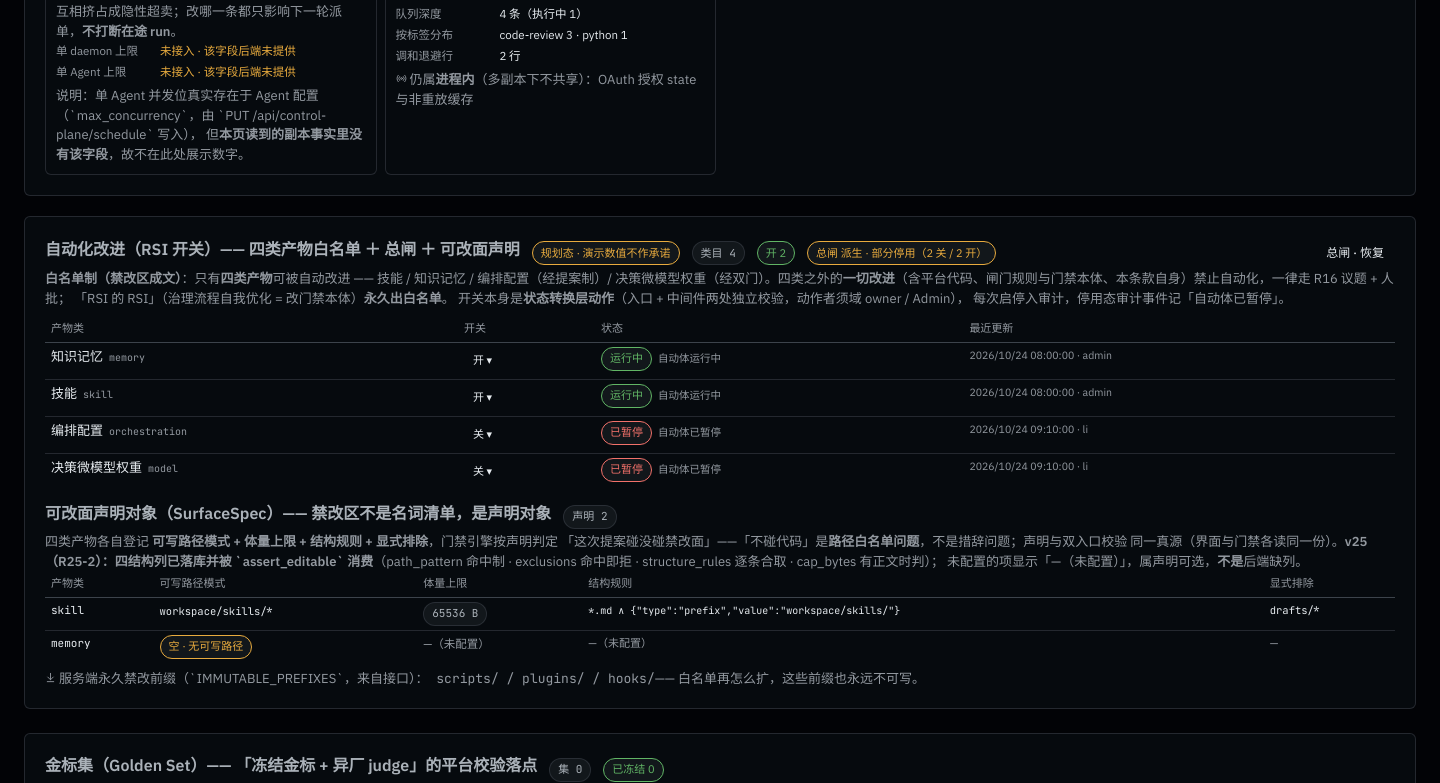
① RSI 开关卡组 › 写失败：后端 detail 原样出现在 role=alert 里（不改写成成功）
(page scrolled)
Click the button named "停用「技能」自动改进" at (483, 398), box [464,384,501,412]
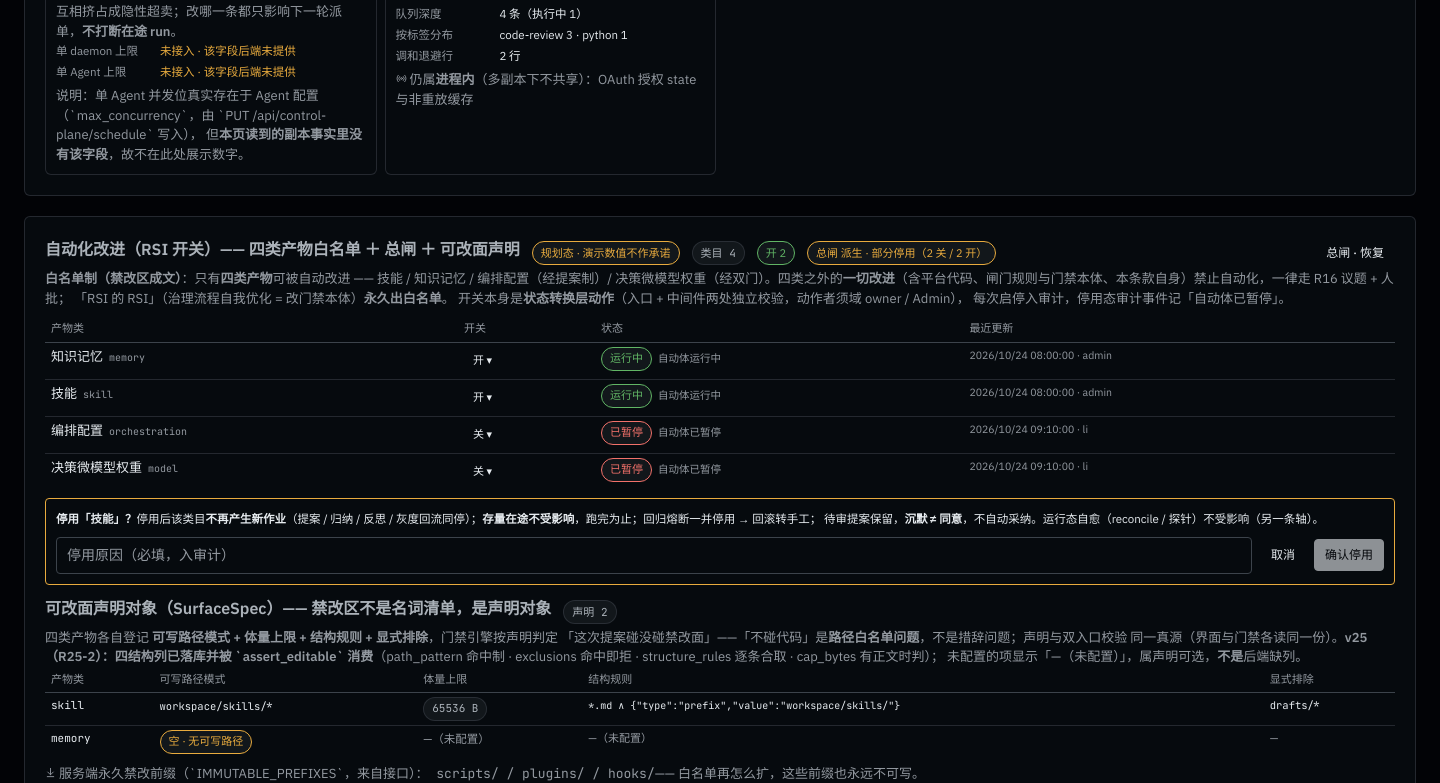
Now the button "确认停用" is disabled, box [1314,539,1384,571]
Type "权限演练" into the field named "停用原因（必填）" at (654, 555), box [56,536,1252,574]
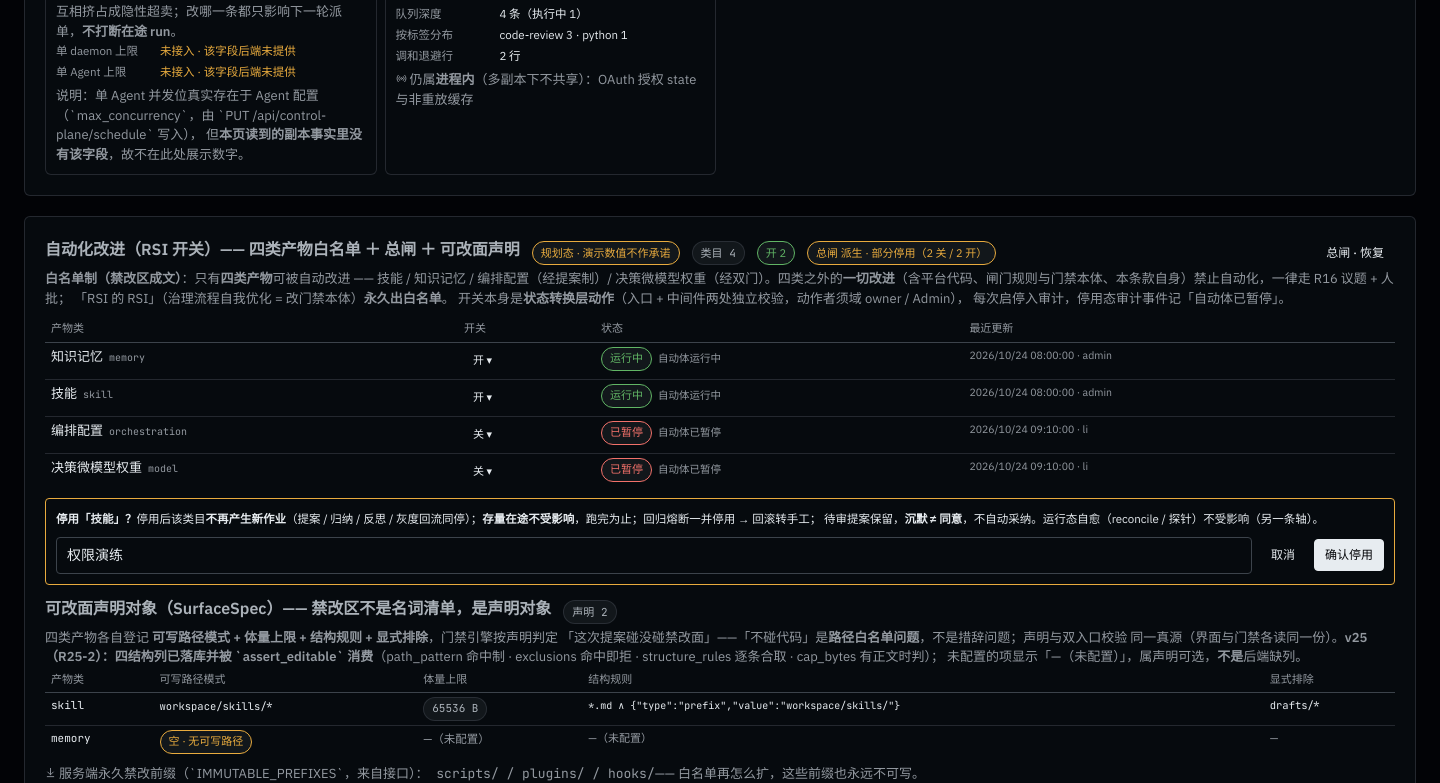
Click the button "确认停用" at (1349, 555), box [1314,539,1384,571]
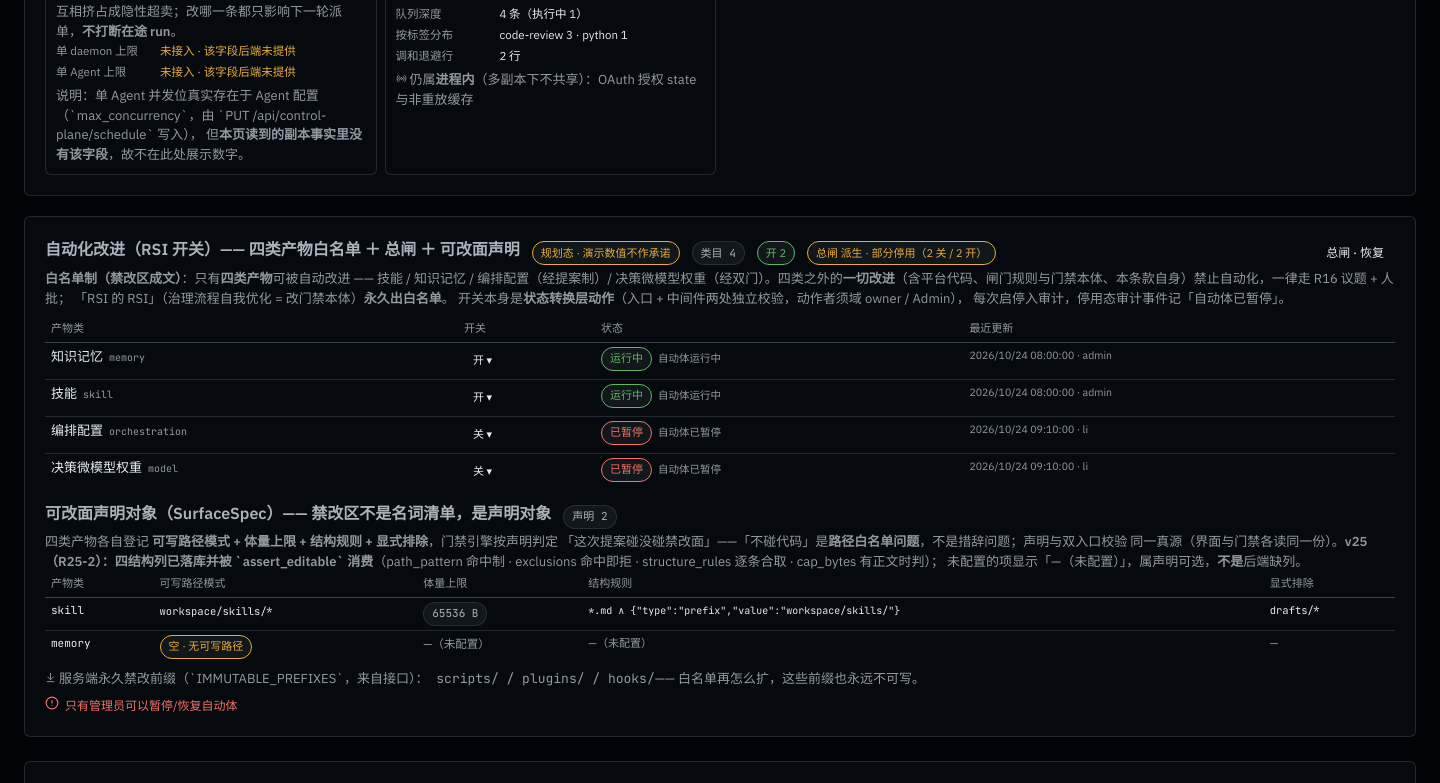
Now the message reads "只有管理员可以暂停/恢复自动体", box [65,698,238,714]
